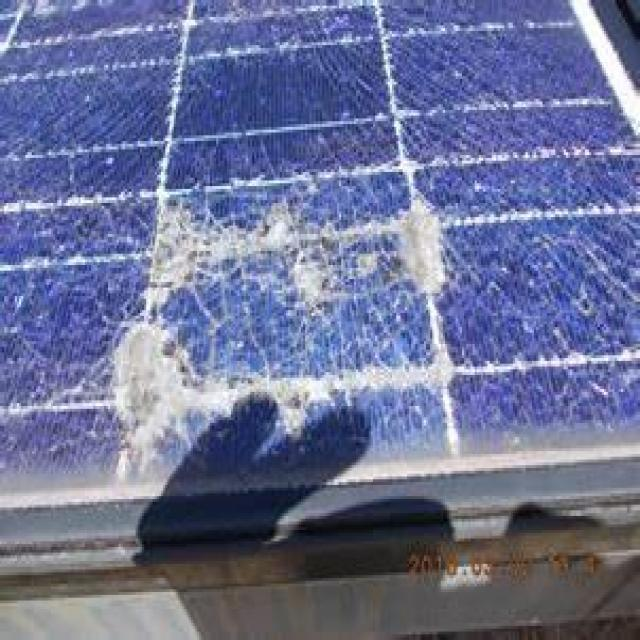cracked: (2, 2, 640, 504)
